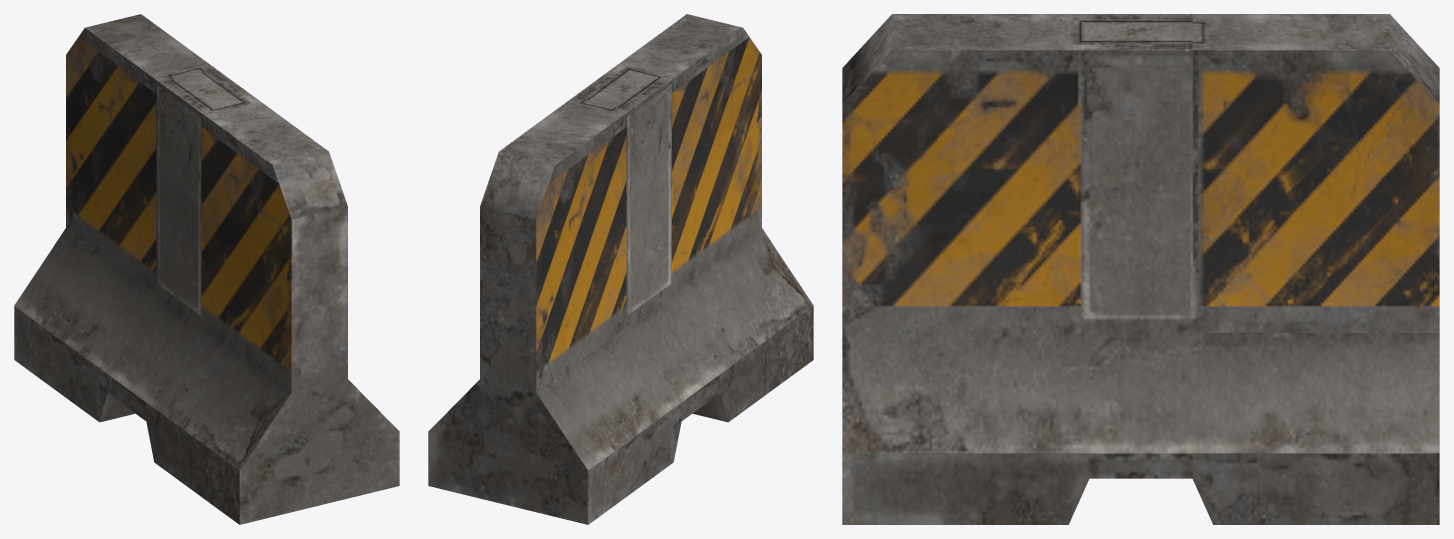
File: HH_Concrete_Barrier_1m.fbx
3 renders of one model, left to right at view 1: azimuth 30°, elevation 25°; view 2: azimuth 150°, elevation 25°; view 3: azimuth 270°, elevation 25°, orthographic. The views are drawn at different scales.
Parts seen in each view (by area): view 1: HH_Concrete_Barrier_1m; view 2: HH_Concrete_Barrier_1m; view 3: HH_Concrete_Barrier_1m.
Boxes of the visible parts, box(x1,y1,x2,y2) form: HH_Concrete_Barrier_1m: box(14, 14, 399, 524); HH_Concrete_Barrier_1m: box(428, 14, 813, 524); HH_Concrete_Barrier_1m: box(842, 14, 1439, 524).
Size of the model in its own units: 40.99 by 81.53 by 100.
